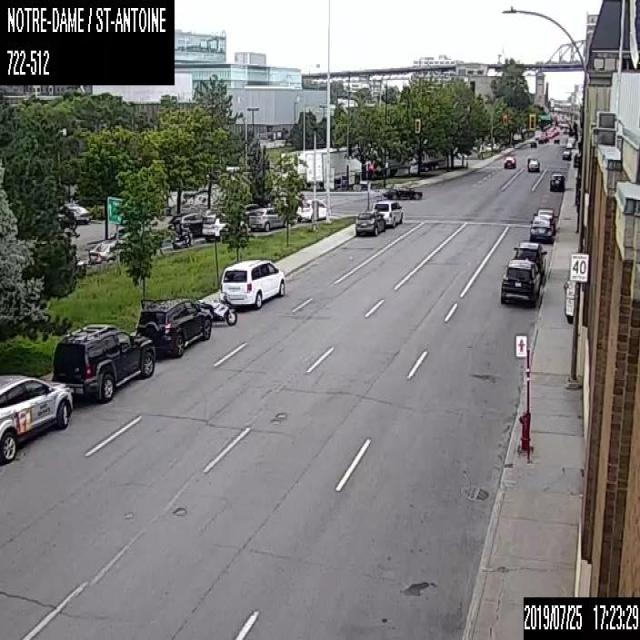vehicle: (51, 321, 154, 401), (0, 372, 73, 463), (136, 297, 212, 356), (220, 259, 284, 307), (500, 258, 540, 306), (513, 240, 547, 282), (88, 237, 123, 267), (202, 295, 236, 325), (166, 211, 202, 237), (371, 199, 403, 227), (248, 206, 284, 230), (354, 209, 386, 236), (201, 208, 228, 239), (296, 198, 330, 220), (529, 214, 555, 242), (382, 182, 422, 200), (172, 220, 193, 249), (534, 207, 558, 230), (68, 203, 92, 222), (549, 170, 565, 190), (526, 157, 539, 172), (503, 155, 515, 168), (244, 202, 259, 212)
